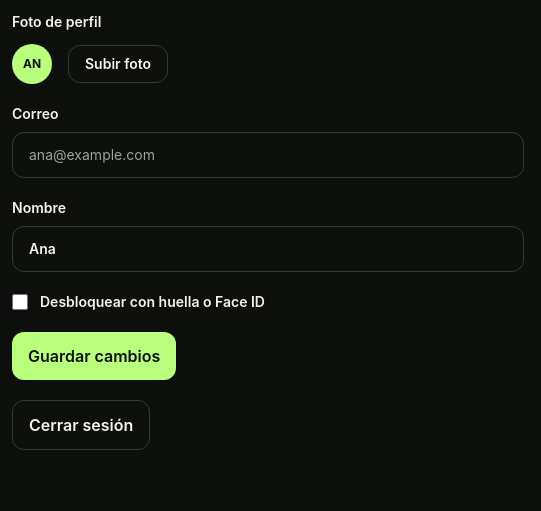
Test: ProfileForm › biometric toggle › reverts and reports when enrollment fails
Click the checkbox labelled "Desbloquear con huella o Face ID": (20, 302) [12, 294, 28, 310]
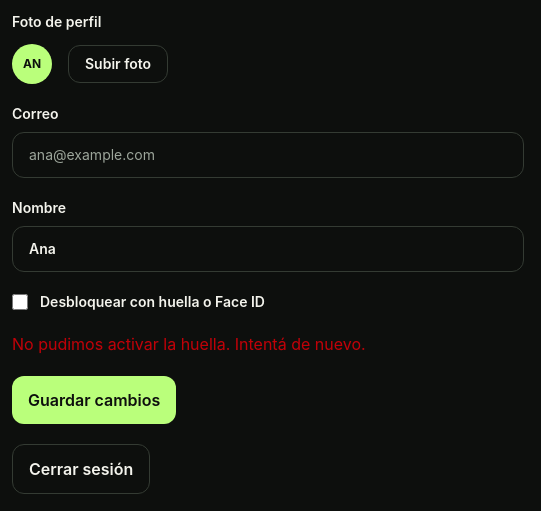
Now the text "No pudimos activar la huella. Intentá de nuevo." is shown, box [12, 334, 366, 354]
